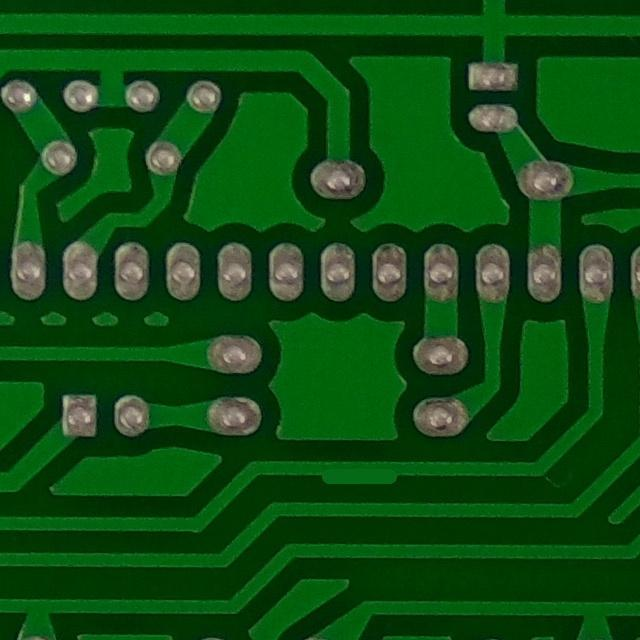spur: (302, 452, 413, 503)
